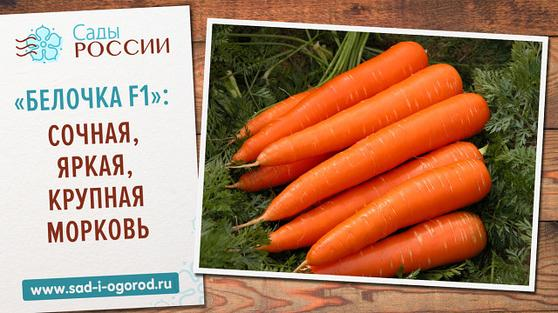carrot: (236, 50, 421, 138)
